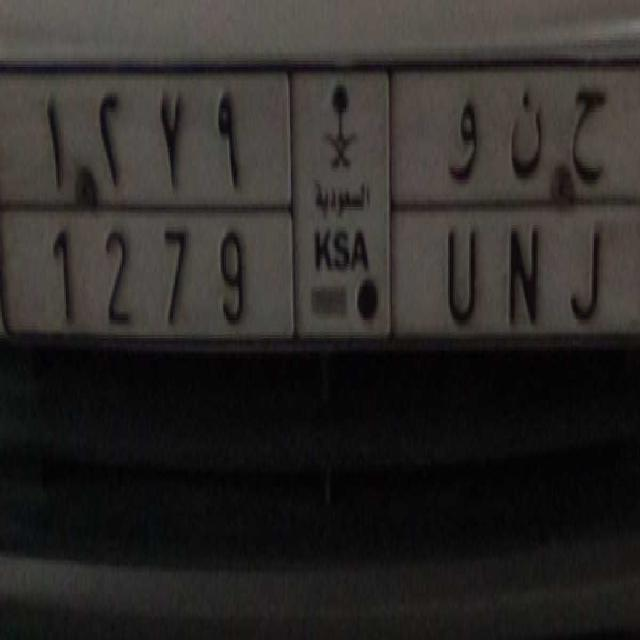license_plate: (16, 205, 634, 367)
